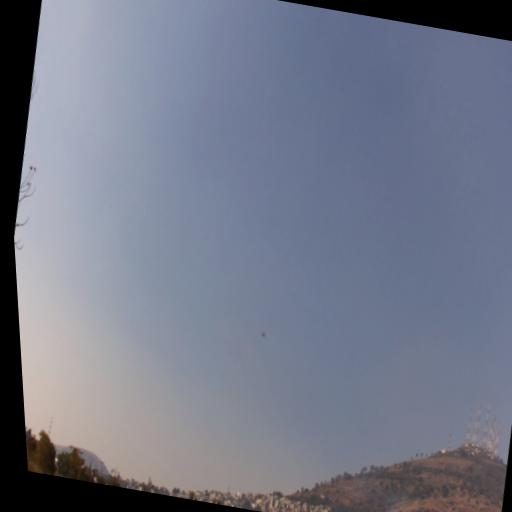drones: (259, 329, 268, 339)
